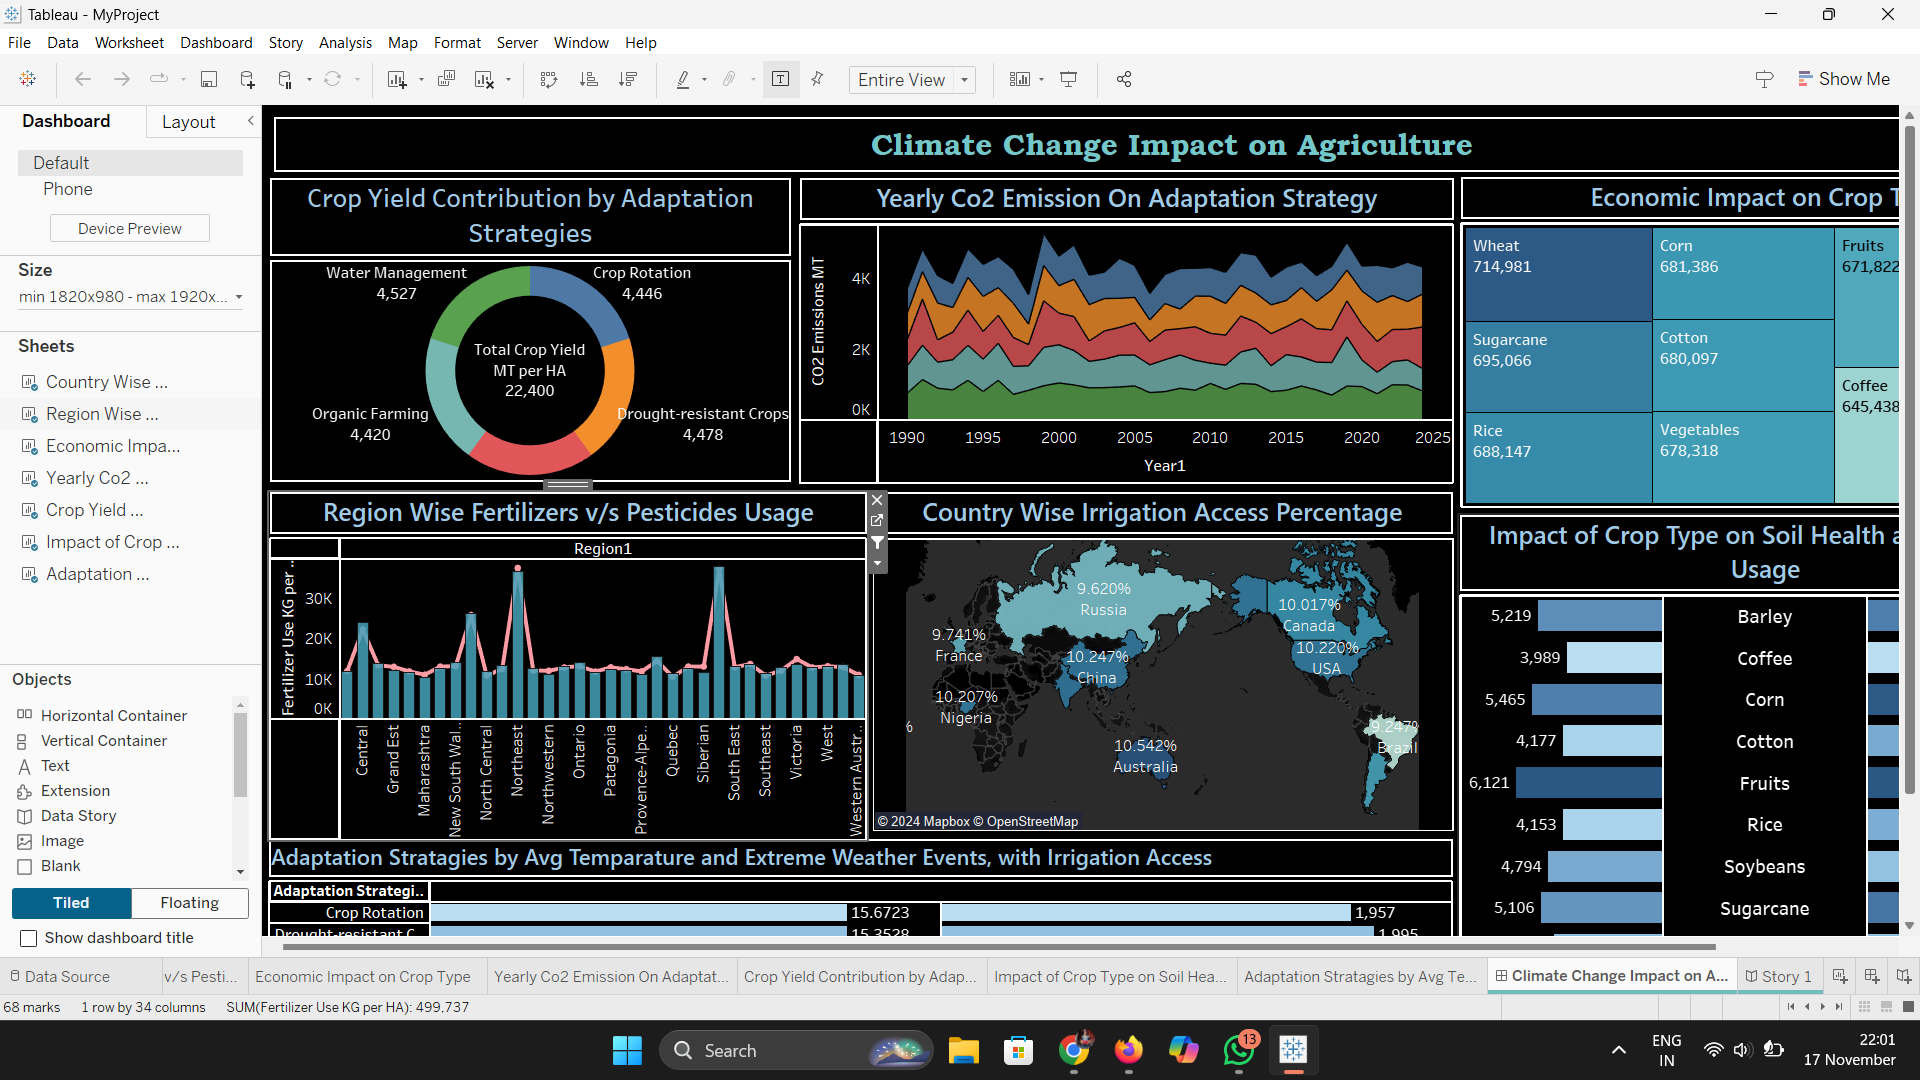

This screenshot's page, from the dashboard's own definition file:
{"tool":"tableau","page":{"name":"Climate Change Impact on Agriculture","canvas":[1000,1000],"units":"permille","ordinal":0},"visuals":[{"type":"title","box":[4.4,8.2,991.2,64.3]},{"type":"worksheet","title":"Economic Impact on Crop Type","mark":"Automatic","box":[658.2,73.5,336.3,338.8]},{"type":"worksheet","title":"Crop Yield Contribution by Adaptation Strategies","mark":"Pie","rows":["Calculation_1484217566307561475","Calculation_1484217566307561475"],"box":[3.9,74.5,286.8,310.2]},{"type":"worksheet","title":"Yearly Co2 Emission On Adaptation Strategy","mark":"Area","rows":["CO2_Emissions_MT"],"cols":["Year"],"box":[295.1,74.5,359.9,312.2]},{"type":"worksheet","title":"Region Wise Fertilizers v/s Pesticides Usage","mark":"Automatic","rows":["Fertilizer_Use_KG_per_HA","Pesticide_Use_KG_per_HA"],"cols":["Region"],"box":[3.9,394.9,328.6,355.1]},{"type":"worksheet","title":"Country Wise Irrigation Access Percentage","mark":"Automatic","box":[334.4,395.4,320.3,347.2]},{"type":"worksheet","title":"Impact of Crop Type on Soil Health and Pesticide Usage","mark":"Bar","rows":["Crop_Type"],"cols":["Soil_Health_Index","Calculation_1484217566307561475","Pesticide_Use_KG_per_HA"],"box":[657.7,418.4,336.3,573.5]},{"type":"worksheet","title":"Adaptation Stratagies by Avg Temparature and Extreme Weather Events, with Irrigation Access","mark":"Automatic","rows":["Adaptation_Strategies"],"cols":["Average_Temperature_C","Extreme_Weather_Events"],"box":[3.1,749.1,651,240.7]}]}

Visuals, with their boxes on the dashboard's canvas, which has no fixed pixel size, in thousandths of its width and height (x1, y1, x2, y2). These are canvas units, not pixel positions in the 1920x1080 screenshot, which may show the page scaled, cropped or inside an application window:
title: x1=4, y1=8, x2=996, y2=72
"Economic Impact on Crop Type" worksheet: x1=658, y1=74, x2=994, y2=412
"Crop Yield Contribution by Adaptation Strategies" worksheet (Pie marks): x1=4, y1=74, x2=291, y2=385
"Yearly Co2 Emission On Adaptation Strategy" worksheet (Area marks): x1=295, y1=74, x2=655, y2=387
"Region Wise Fertilizers v/s Pesticides Usage" worksheet: x1=4, y1=395, x2=332, y2=750
"Country Wise Irrigation Access Percentage" worksheet: x1=334, y1=395, x2=655, y2=743
"Impact of Crop Type on Soil Health and Pesticide Usage" worksheet (Bar marks): x1=658, y1=418, x2=994, y2=992
"Adaptation Stratagies by Avg Temparature and Extreme Weather Events, with Irrigation Access" worksheet: x1=3, y1=749, x2=654, y2=990
